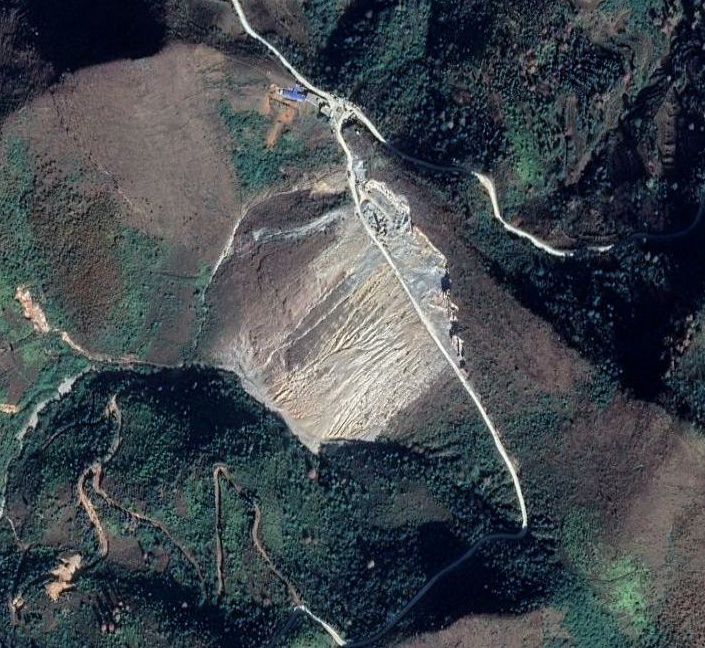slope: (210, 165, 447, 448), (363, 177, 467, 367), (41, 548, 86, 600), (12, 283, 53, 335)
